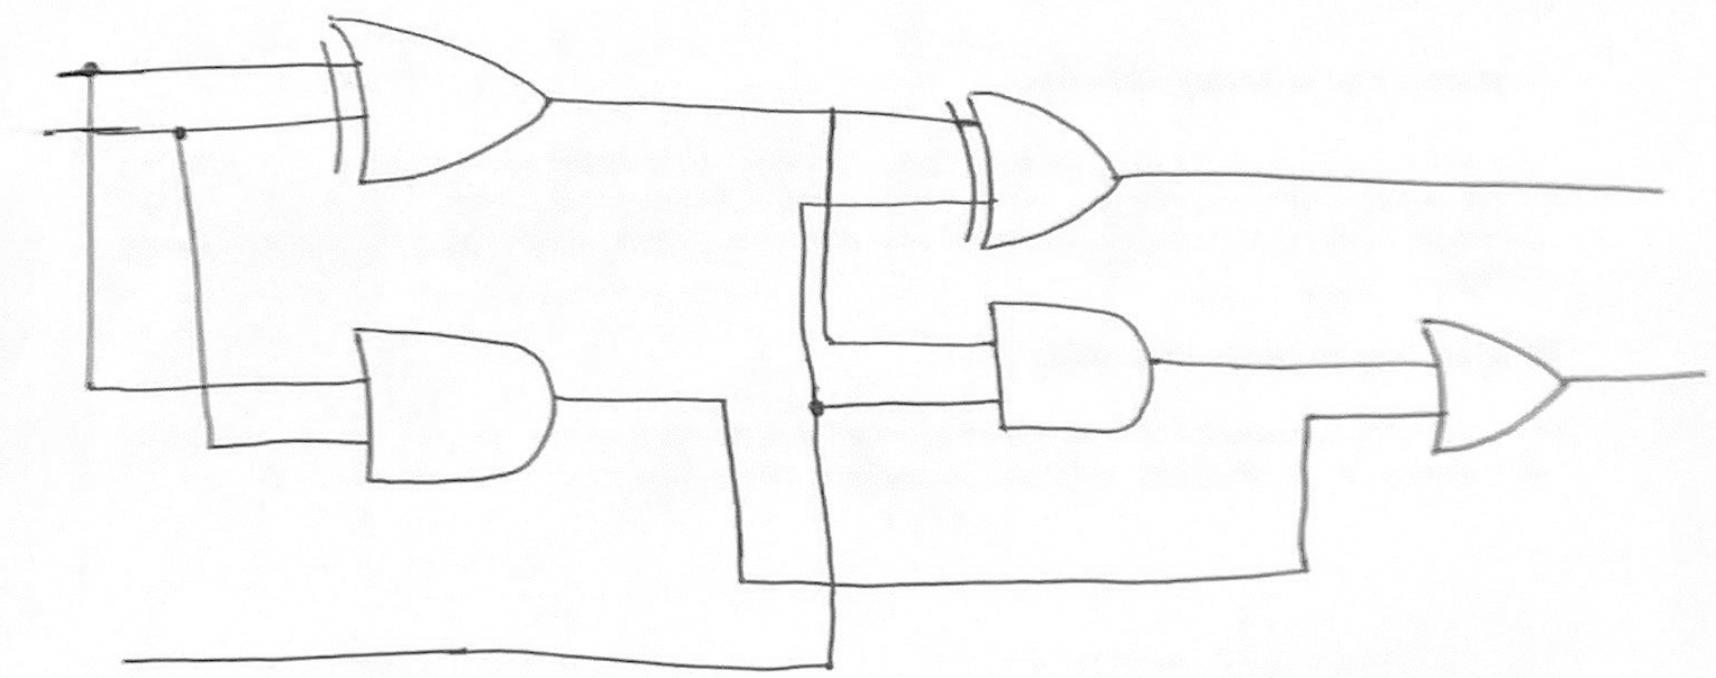AND: (322, 296, 582, 523), (976, 296, 1192, 448)
OR: (1403, 287, 1577, 481)
XOR: (303, 7, 573, 204), (928, 83, 1144, 250)
